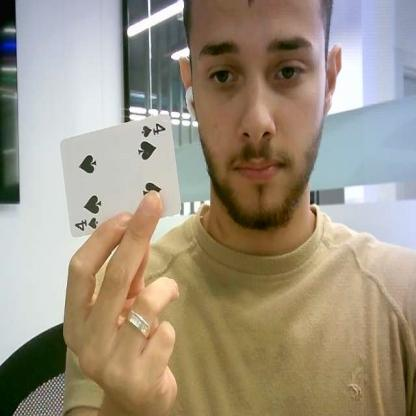4S: (137, 121, 166, 138), (74, 218, 102, 232)
